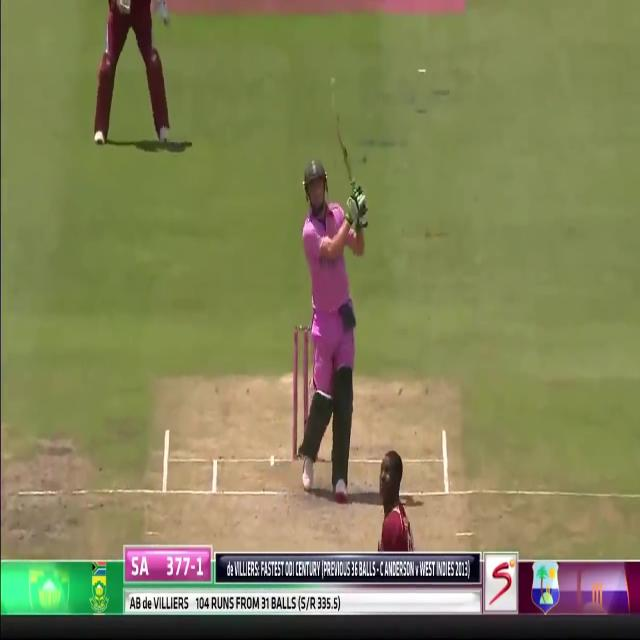Ball: (291, 158, 361, 494)
Fielder: (92, 0, 174, 144), (375, 452, 414, 550)
